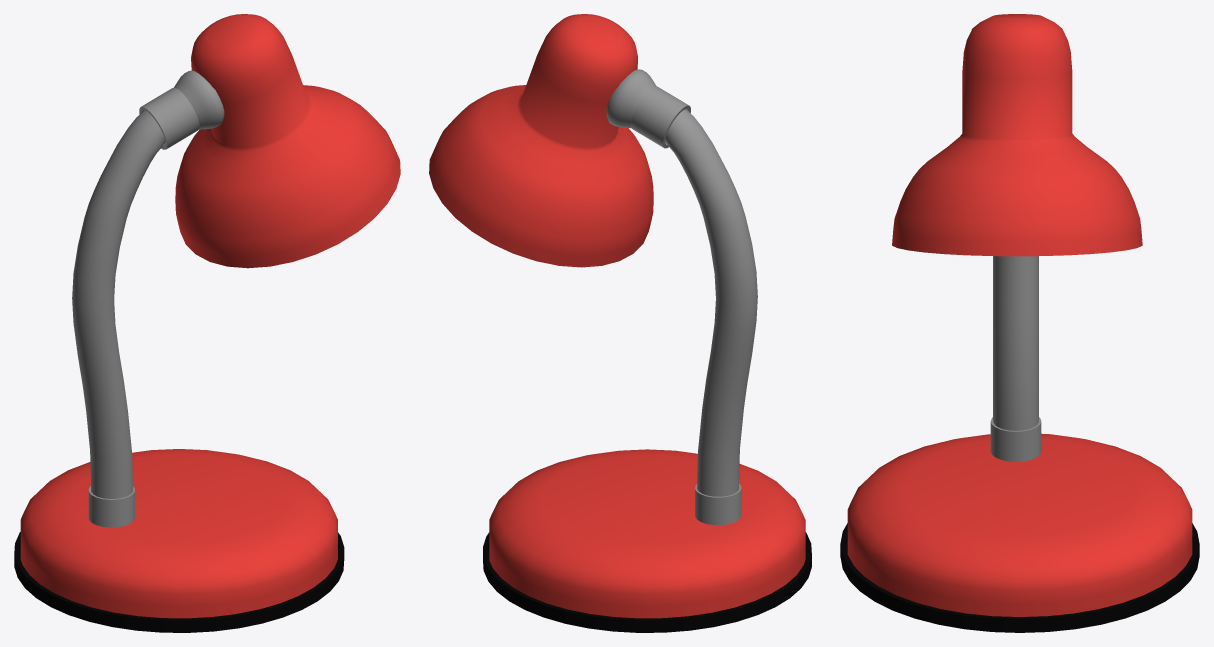
The model's file is Prop_DeskLamp_Red.FBX.
3 renders of one model, left to right at view 1: azimuth 30°, elevation 25°; view 2: azimuth 150°, elevation 25°; view 3: azimuth 270°, elevation 25°, orthographic. The views are drawn at different scales.
Visible parts, largest first — view 1: Baytek_Mall_Lamp; view 2: Baytek_Mall_Lamp; view 3: Baytek_Mall_Lamp.
Part boxes in pixels (x1,y1,x2,y2): Baytek_Mall_Lamp: [14, 14, 400, 632]; Baytek_Mall_Lamp: [429, 14, 811, 632]; Baytek_Mall_Lamp: [840, 14, 1199, 632].
Bounding box in the file's own units: 27.49 × 39.97 × 22.65.
